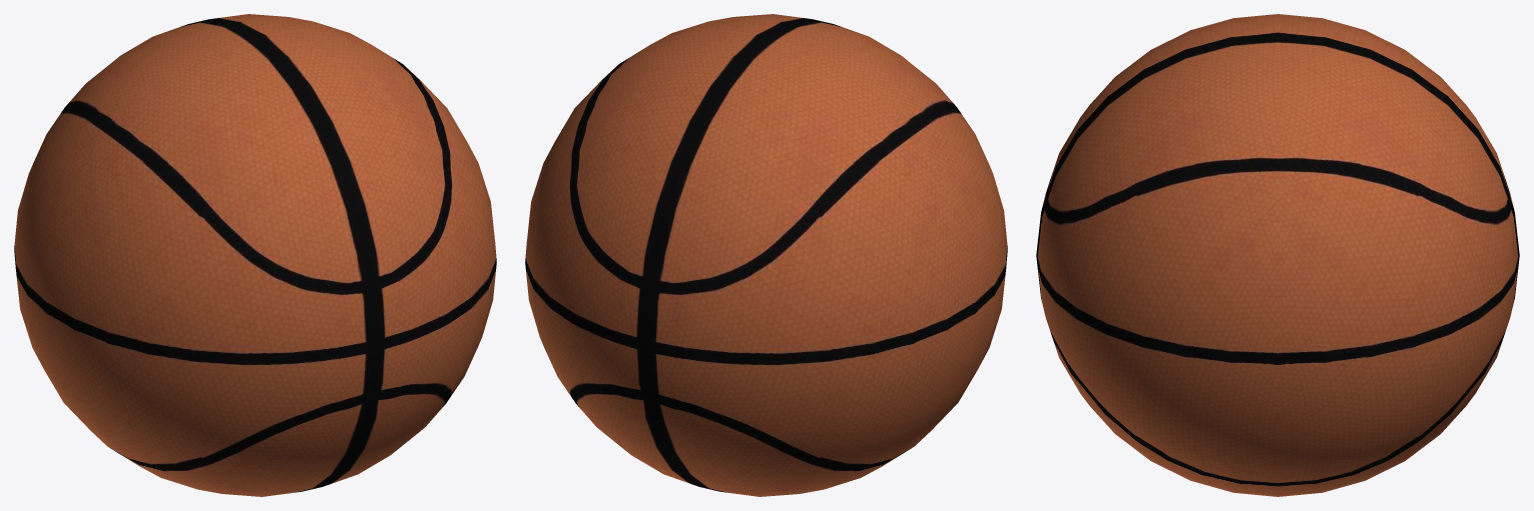
The model's file is basketball.glb.
The picture shows the model from 3 angles, left to right: view 1: azimuth 30°, elevation 25°; view 2: azimuth 150°, elevation 25°; view 3: azimuth 270°, elevation 25°; orthographic projection.
Parts seen in each view (by area): view 1: Cube; view 2: Cube; view 3: Cube.
Boxes of the visible parts, box(x1,y1,x2,y2) form: Cube: box(14, 14, 496, 496); Cube: box(525, 14, 1007, 496); Cube: box(1036, 14, 1519, 496).
Size of the model in its own units: 346 by 346 by 346.
1 material, 1 textured.
